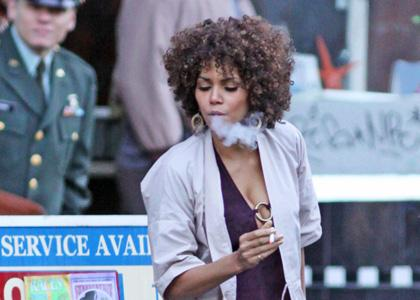person: (136, 14, 325, 300)
